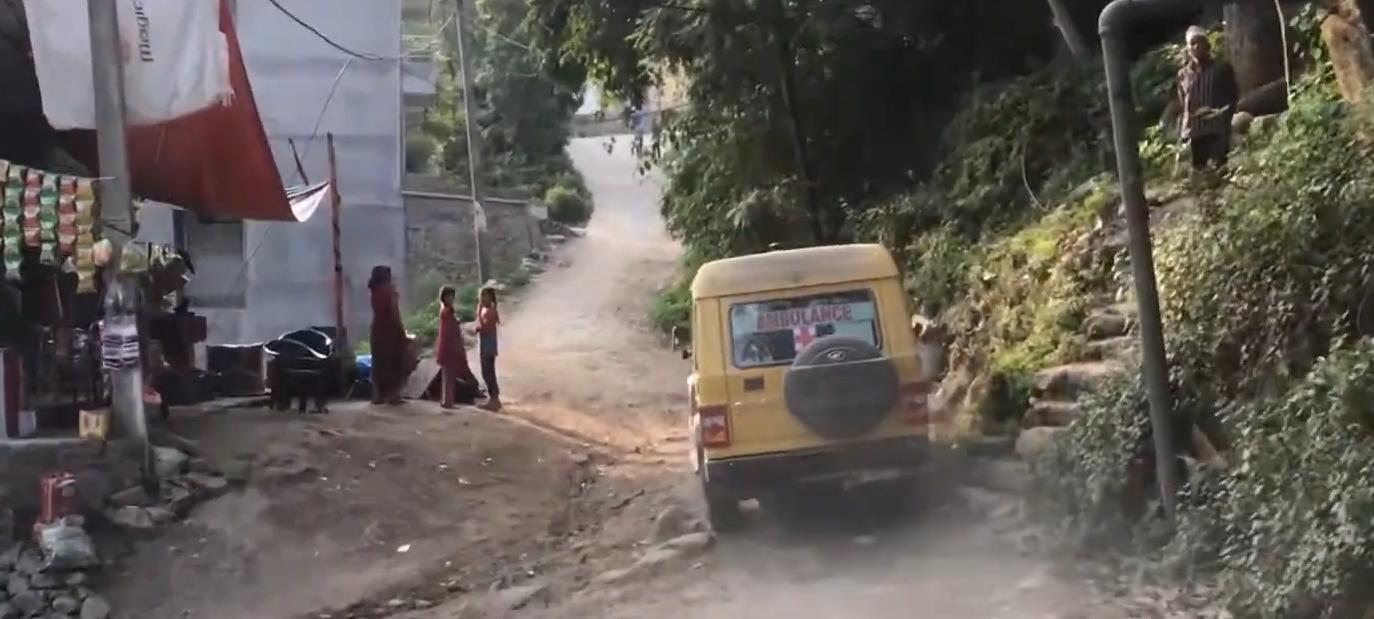ambulance: (664, 239, 956, 546)
